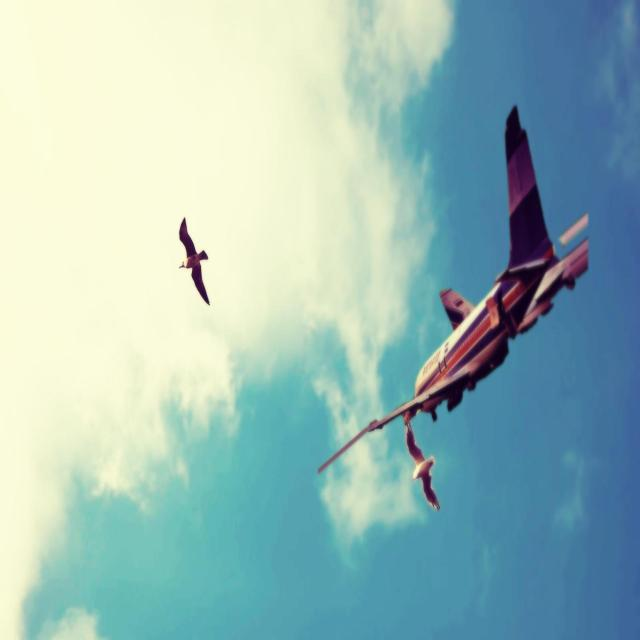airplane: (317, 103, 589, 484)
